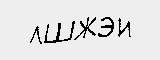Ж: (76, 16, 98, 42)
И: (117, 17, 134, 37)
Л: (28, 26, 43, 47)
Ш: (43, 19, 75, 44)
Э: (100, 15, 115, 38)
